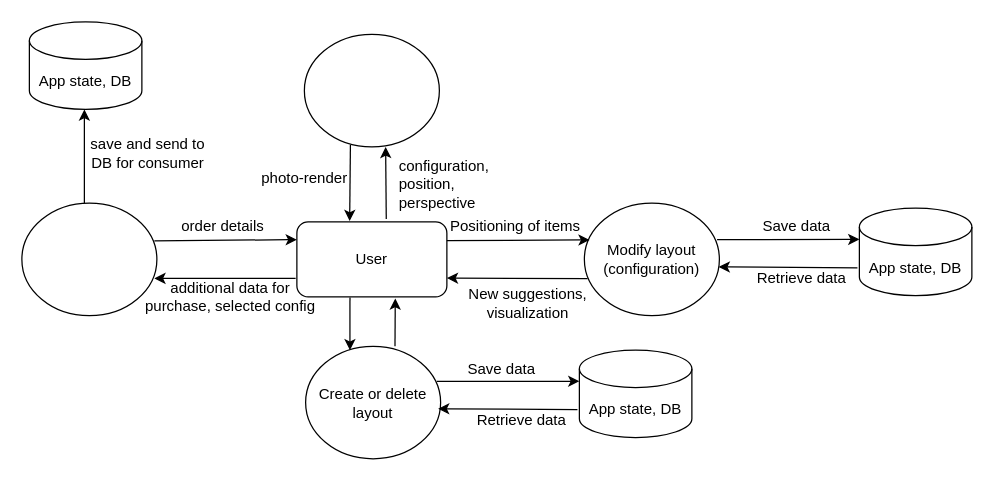
Image size: 994x481. Some labels were removed from this diagram. Each missing label, with the centre of its shape:
"Get renders or snapshots" goes at point (371, 90).
"Making an order" goes at point (89, 259).
